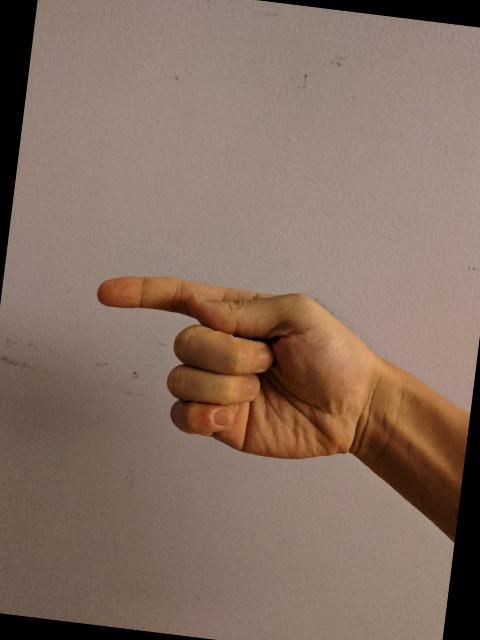G: (73, 260, 384, 472)
